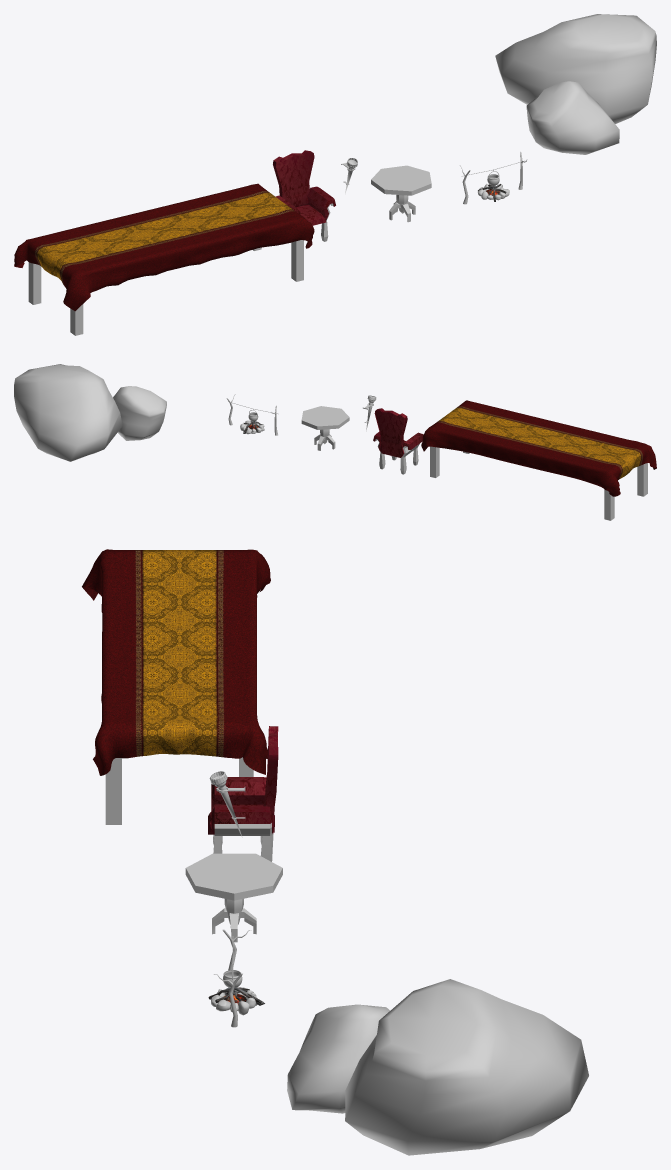
3 renders of one model, top to bottom at view 1: azimuth 30°, elevation 25°; view 2: azimuth 150°, elevation 25°; view 3: azimuth 270°, elevation 25°, orthographic. The views are drawn at different scales.
Parts seen in each view (by area): view 1: Royal_longtable, Stone, Royal_chair1, Royal_table1, Campfire; view 2: Royal_longtable, Stone, Royal_chair1, Royal_table1, Campfire; view 3: Stone, Royal_longtable, Royal_table1, Royal_chair1, Campfire.
Part boxes in pixels (x1=…): Royal_longtable: x1=14, y1=183, x2=314, y2=335; Stone: x1=495, y1=14, x2=656, y2=154; Royal_chair1: x1=273, y1=150, x2=335, y2=241; Royal_table1: x1=371, y1=165, x2=431, y2=222; Campfire: x1=460, y1=152, x2=527, y2=204; Royal_longtable: x1=421, y1=400, x2=656, y2=520; Stone: x1=14, y1=364, x2=166, y2=461; Royal_chair1: x1=373, y1=408, x2=423, y2=474; Royal_table1: x1=301, y1=406, x2=349, y2=450; Campfire: x1=226, y1=394, x2=278, y2=435; Stone: x1=287, y1=979, x2=588, y2=1155; Royal_longtable: x1=82, y1=549, x2=270, y2=824; Royal_table1: x1=185, y1=853, x2=282, y2=942; Royal_chair1: x1=208, y1=726, x2=278, y2=861; Campfire: x1=208, y1=929, x2=264, y2=1027.
Size of the model in its own units: 130 by 15.99 by 51.73.
